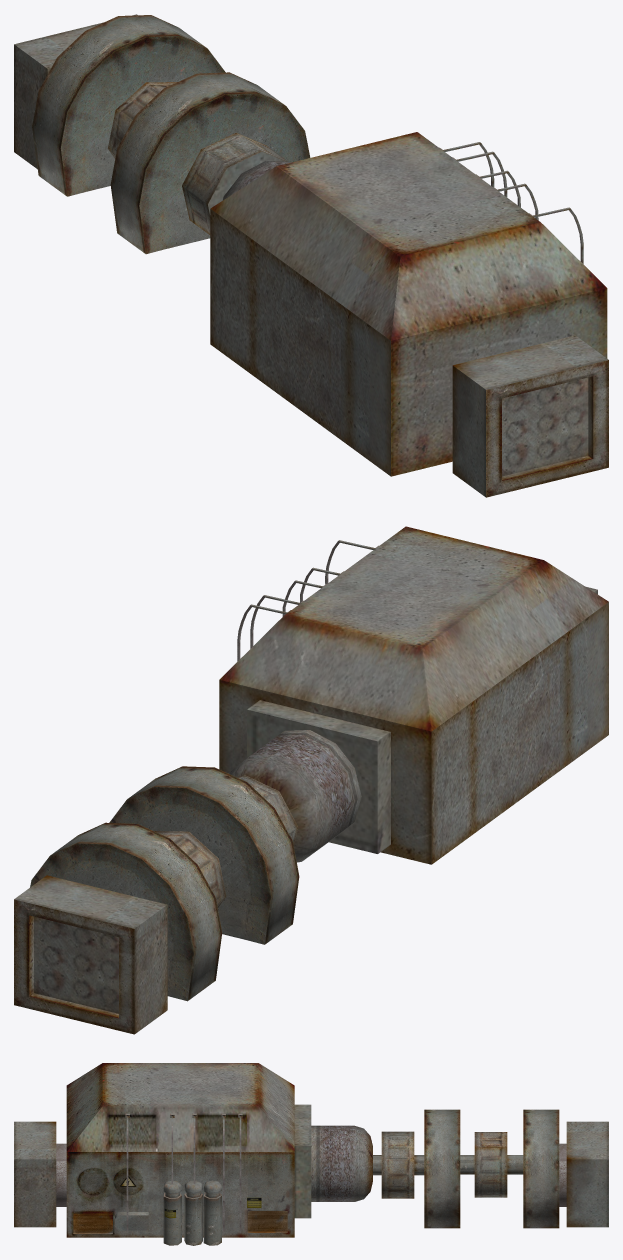
The model's file is modern_mine_generator_off.dae.
3 renders of one model, top to bottom at view 1: azimuth 30°, elevation 25°; view 2: azimuth 150°, elevation 25°; view 3: azimuth 270°, elevation 25°, orthographic. The views are drawn at different scales.
Visible parts, largest first — view 1: generator, wheel1, wheel2; view 2: generator, wheel2, wheel1; view 3: generator, wheel2, wheel1.
Part boxes in pixels (bbox=[...]): generator: bbox=[14, 14, 608, 497]; wheel1: bbox=[182, 132, 287, 234]; wheel2: bbox=[108, 82, 177, 158]; generator: bbox=[14, 526, 608, 1034]; wheel2: bbox=[154, 831, 226, 907]; wheel1: bbox=[238, 775, 298, 845]; generator: bbox=[14, 1063, 608, 1245]; wheel2: bbox=[460, 1132, 523, 1197]; wheel1: bbox=[373, 1131, 424, 1198].
Size of the model in its own units: 3.05 by 2.33 by 10.31.
